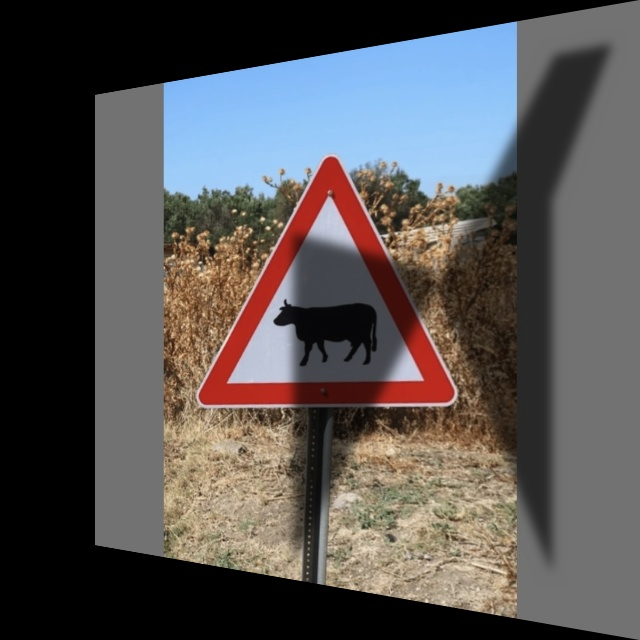Cattle: (208, 145, 460, 422)
